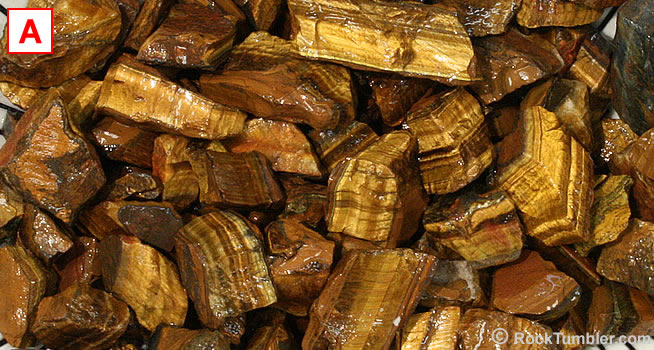Tigers_Eye: (10, 78, 481, 308)
